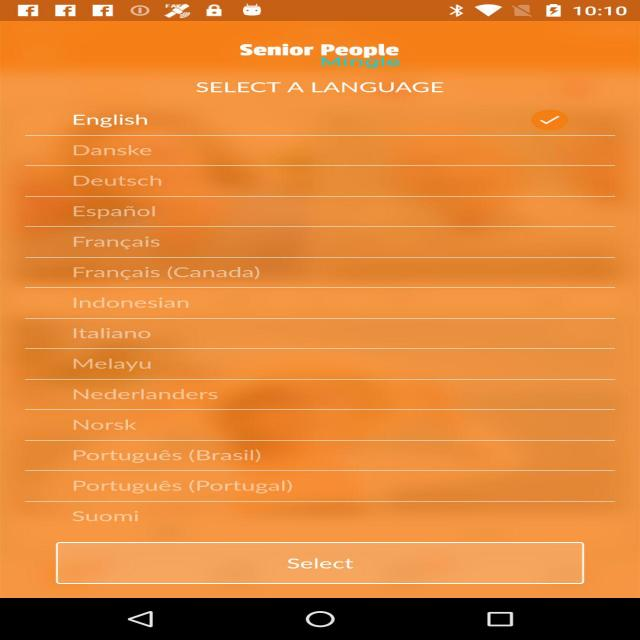button: (38, 535, 604, 593)
text: (52, 91, 410, 532)
